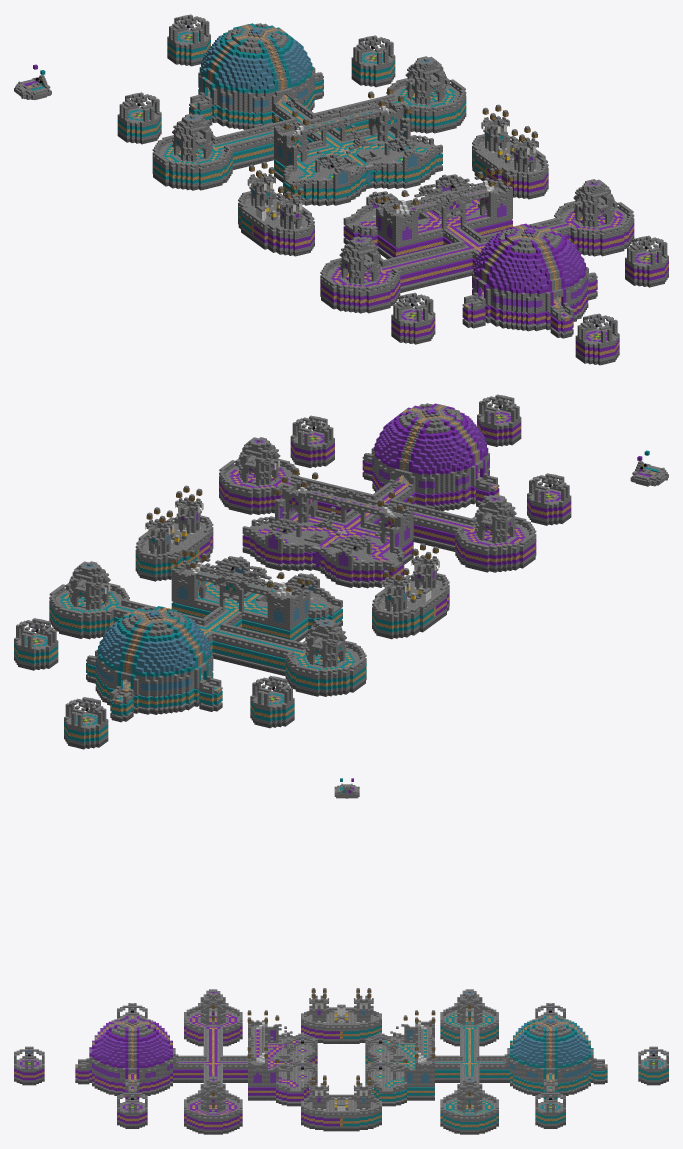
The model's file is minecraft.obj.
3 views of the same model, one above another, from view 1: azimuth 30°, elevation 25°; view 2: azimuth 150°, elevation 25°; view 3: azimuth 270°, elevation 25° (orthographic). The views are drawn at different scales.
Bounding box in the file's own units: 165 × 68 × 235.
